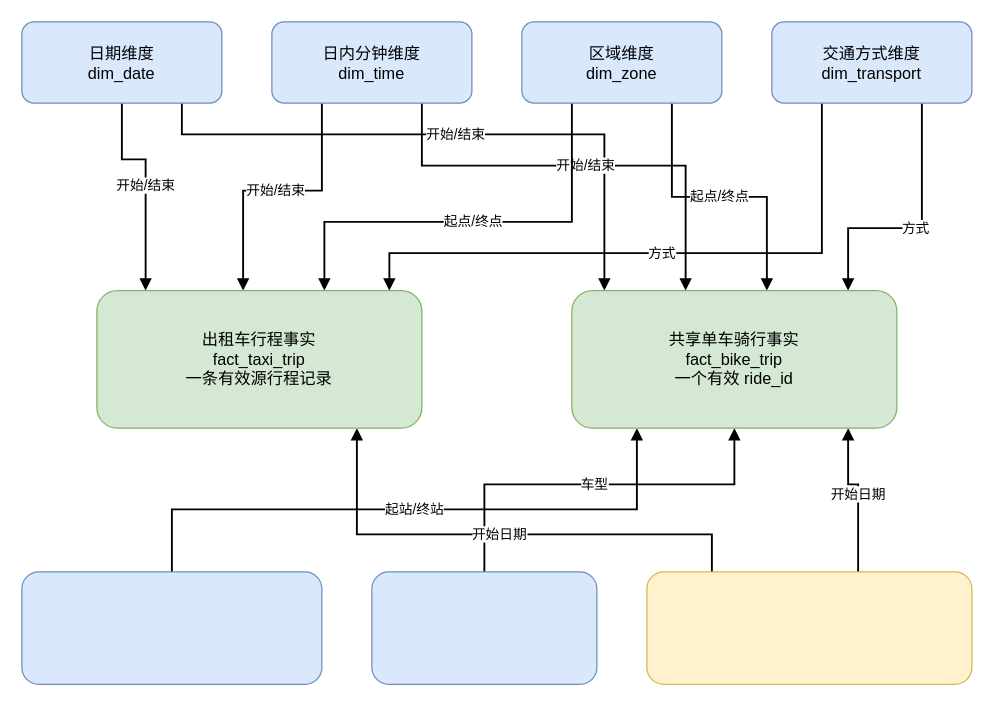
The diagram is 994 pixels wide and 706 high, and some of its shapes have lost their labels. Each missing label, with the box of its shape:
历史期间站点维度 dim_station 站点编号 × 源月份: (21, 571, 322, 684)
日天气观察维度 dim_weather_daily 气象站 × 观测日期: (646, 571, 972, 684)
车型维度 dim_bike_type: (371, 571, 597, 684)
